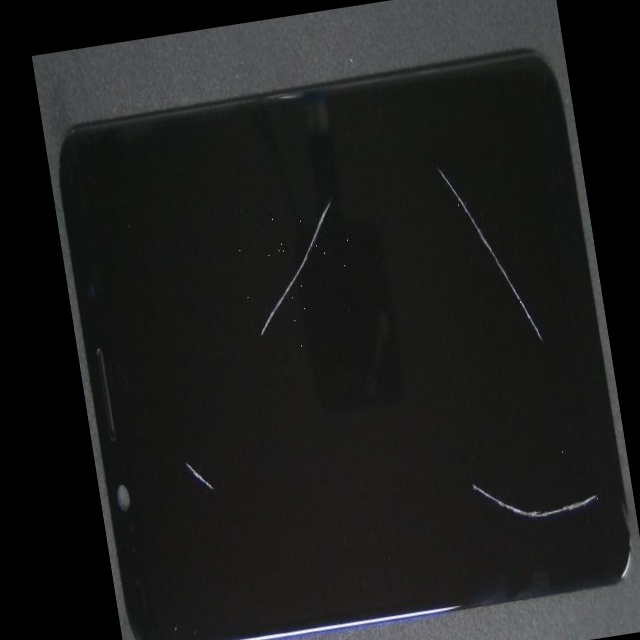scratch: (165, 0, 609, 396), (307, 254, 640, 640), (131, 145, 365, 516)
